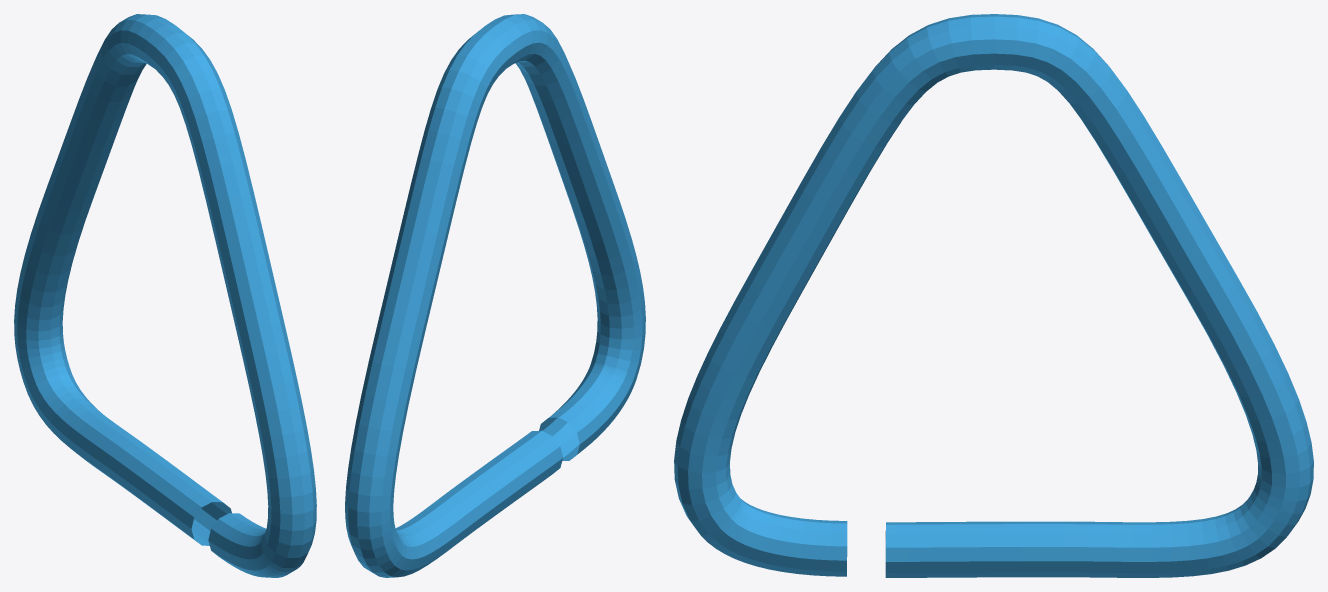
The model's file is Triangle.fbx.
The picture shows the model from 3 angles, left to right: view 1: azimuth 30°, elevation 25°; view 2: azimuth 150°, elevation 25°; view 3: azimuth 270°, elevation 25°; orthographic projection. The views are drawn at different scales.
Parts seen in each view (by area): view 1: ベジエカーブ; view 2: ベジエカーブ; view 3: ベジエカーブ.
Part boxes in pixels (x1,y1,x2,y2): ベジエカーブ: (14,14,316,577); ベジエカーブ: (345,14,645,577); ベジエカーブ: (674,14,1313,577).
Size of the model in its own units: 40 by 441 by 458.
